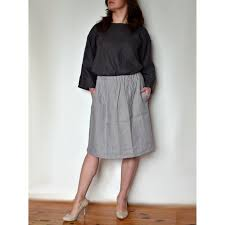C_skirt: (82, 74, 159, 162)
